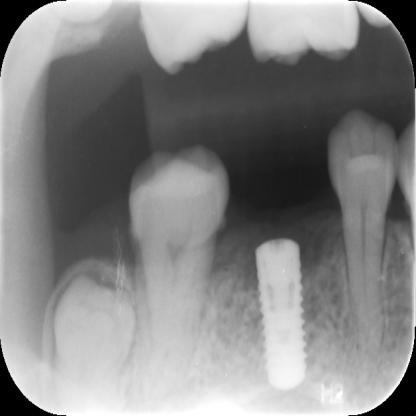ITI: (255, 239, 309, 392)
